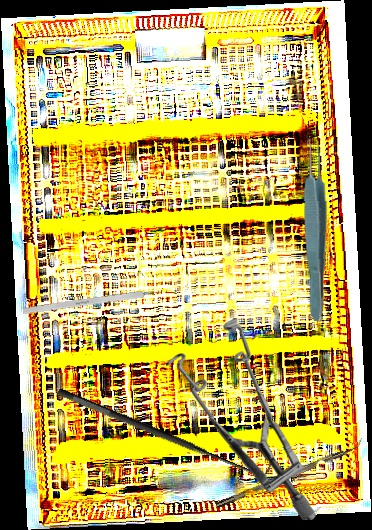Chopper: (212, 435, 366, 509)
Hook Surgical: (55, 371, 278, 488), (22, 286, 173, 315)
Speculum: (161, 315, 324, 521)
Tissue Forceps: (302, 138, 330, 322)
